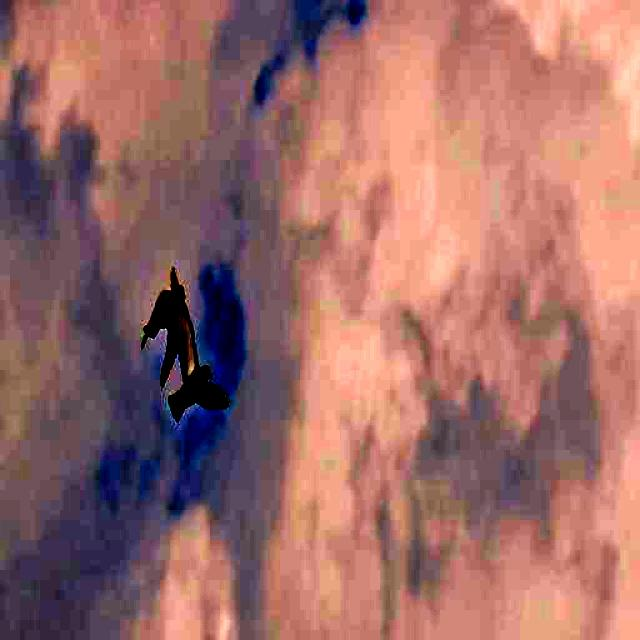airplane: (161, 262, 240, 434), (115, 252, 194, 382)
